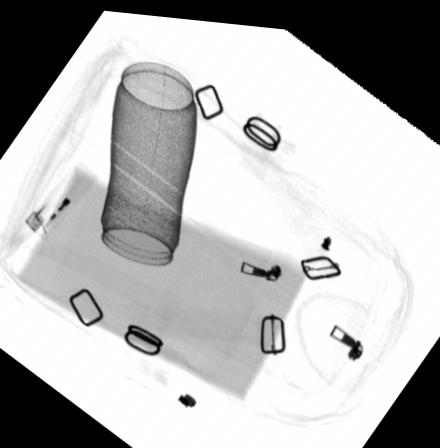Lighter: (23, 163, 94, 241)
